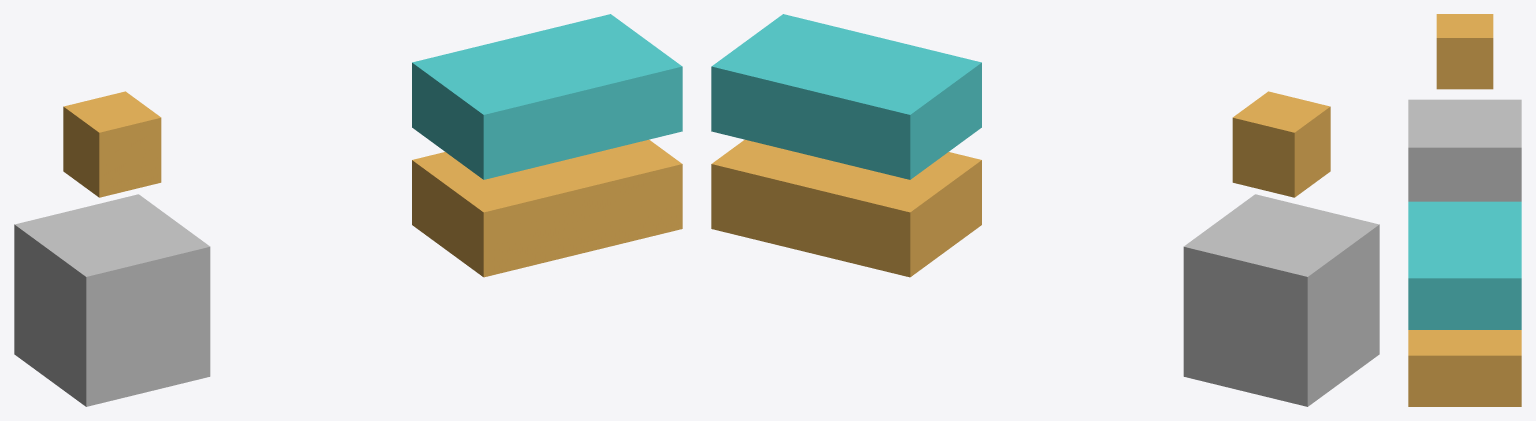
The model's file is hierarchy_animation_fixture.gltf.
3 renders of one model, left to right at view 1: azimuth 30°, elevation 25°; view 2: azimuth 150°, elevation 25°; view 3: azimuth 270°, elevation 25°, orthographic. The views are drawn at different scales.
Parts seen in each view (by area): view 1: StaticSibling, GrandChild, ScaledChild, StaticChild; view 2: StaticSibling, GrandChild, ScaledChild, StaticChild; view 3: GrandChild, StaticSibling, ScaledChild, StaticChild.
Boxes of the visible parts, bbox=[...] form: StaticSibling: bbox=[14, 194, 210, 406]; GrandChild: bbox=[412, 14, 682, 179]; ScaledChild: bbox=[412, 139, 682, 277]; StaticChild: bbox=[63, 91, 161, 197]; StaticSibling: bbox=[1183, 194, 1379, 406]; GrandChild: bbox=[711, 14, 981, 179]; ScaledChild: bbox=[711, 139, 981, 277]; StaticChild: bbox=[1232, 91, 1330, 197]; GrandChild: bbox=[1408, 201, 1521, 329]; StaticSibling: bbox=[1408, 99, 1521, 201]; ScaledChild: bbox=[1408, 330, 1521, 406]; StaticChild: bbox=[1436, 14, 1493, 89].
Size of the model in its own units: 4.8 by 1.95 by 1.
